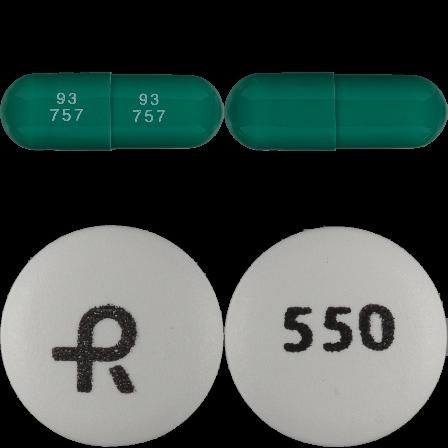67544-807: (0, 0, 224, 224)
